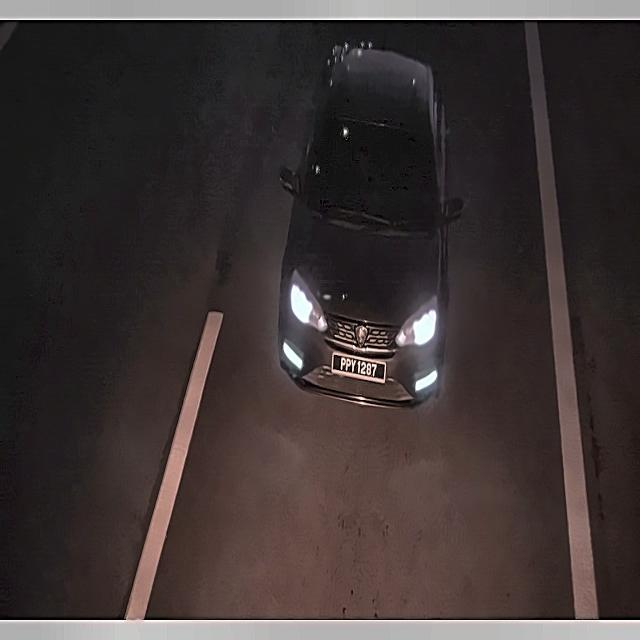car: (326, 343, 392, 392)
